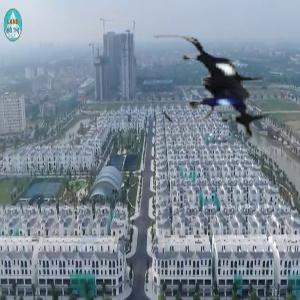drone: (155, 27, 277, 149)
